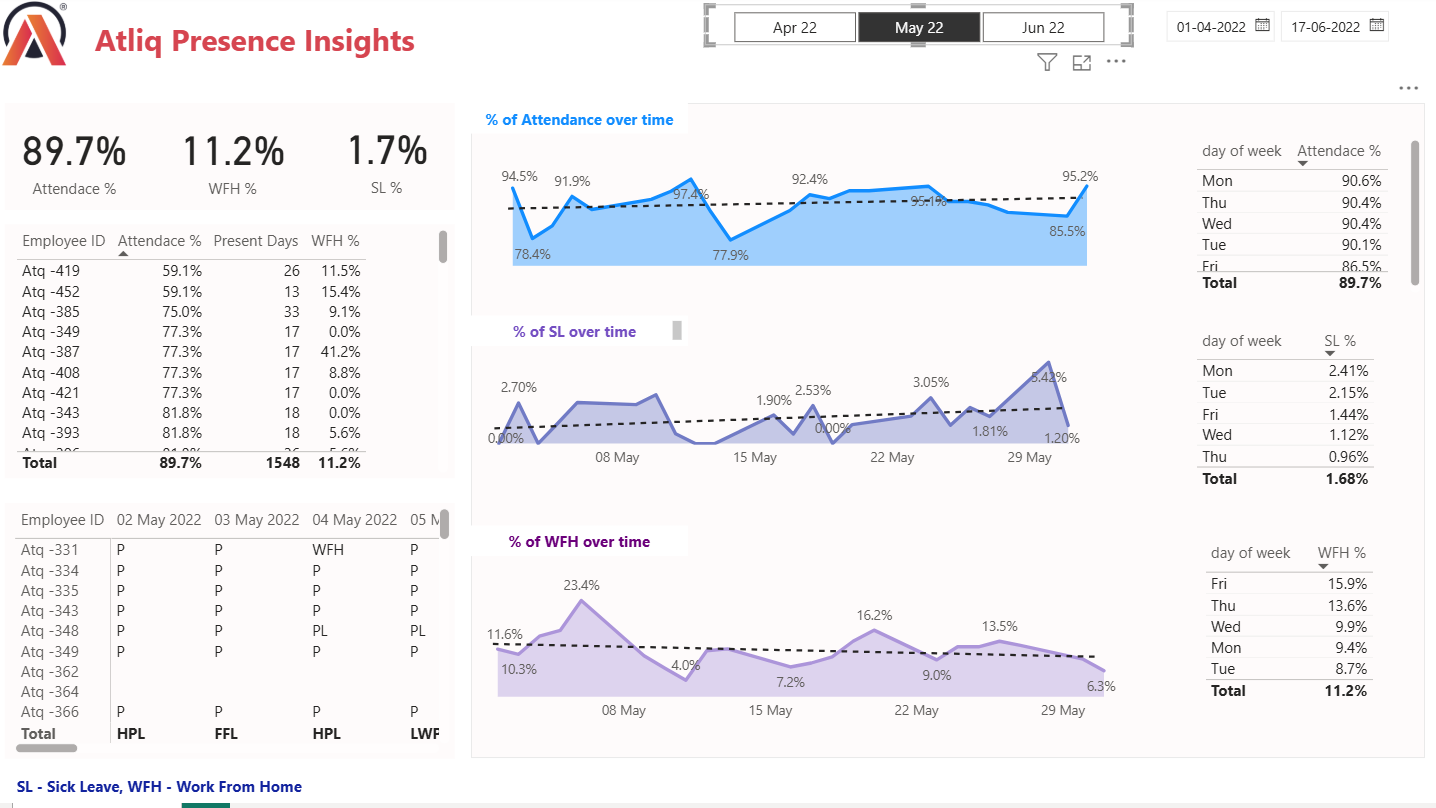

What the dashboard file says about the page in this screenshot:
{"tool":"powerbi","page":{"name":"Presence Insights","canvas":[1280,720],"ordinal":0},"visuals":[{"type":"textbox","box":[7.8,205.6,399.9,225.5],"z":0},{"type":"textbox","box":[7.8,453.3,399.8,227.6],"z":1000},{"type":"textbox","box":[422.3,97.9,848.1,582.3],"z":2000},{"type":"textbox","box":[7.8,98,399.9,95.4],"z":3000},{"type":"tableEx","fields":{"Values":["Final Data.Employee ID","Measures (2).Attendace %","Measures (2).Present Days","Measures (2).WFH %"]},"box":[12.6,205.2,394.9,225.7],"z":4000},{"type":"slicer","fields":{"Values":["Final Data.Date"]},"box":[1027.3,5.2,252.7,46.3],"z":5000},{"type":"slicer","fields":{"Values":["Final Data.MMM YY"]},"box":[630.4,10.5,379.5,35.8],"z":6000},{"type":"areaChart","fields":{"Category":["Final Data.MMM YY","Final Data.Date"],"Y":["Measures (2).WFH %"]},"box":[420.7,502.3,589,153.5],"z":7000},{"type":"areaChart","fields":{"Category":["Final Data.WeekNo","Final Data.Date"],"Y":["Measures (2).Attendace %"]},"box":[444.1,144.9,540.4,103.2],"z":8000},{"type":"card","fields":{"Values":["Measures (2).Attendace %"]},"box":[7.8,98,124,96.3],"z":9000},{"type":"card","fields":{"Values":["Measures (2).WFH %"]},"box":[141.4,98,138.8,96.3],"z":10000},{"type":"areaChart","fields":{"Category":["Final Data.MMM YY","Final Data.Date"],"Y":["Measures (2).SL %"]},"box":[422.5,307.1,556,124],"z":11000},{"type":"image","box":[0,0,70,71],"z":12000},{"type":"card","fields":{"Values":["Measures (2).SL %"]},"box":[286.3,97.2,121.4,96.3],"z":13000},{"type":"textbox","box":[70.3,0,320.1,71.1],"z":14000},{"type":"textbox","box":[422.4,98.2,192.5,27.5],"z":15000},{"type":"textbox","box":[422.5,286.3,192.6,26.9],"z":16000},{"type":"textbox","box":[422.1,473.7,192.6,27.2],"z":17000},{"type":"pivotTable","fields":{"Rows":["Final Data.Employee ID"],"Columns":["Final Data.Date"],"Values":["Min(Final Data.Value)"]},"box":[11.7,453.3,395.9,227.6],"z":18000},{"type":"textbox","box":[13.6,691.6,289.8,28.2],"z":19000},{"type":"tableEx","fields":{"Values":["Final Data.day of week","Measures (2).Attendace %"]},"box":[1060.9,125.8,209.9,145.7],"z":20000},{"type":"tableEx","fields":{"Values":["Final Data.day of week","Measures (2).SL %"]},"box":[1060.9,294.1,191.7,167.4],"z":21000},{"type":"tableEx","fields":{"Values":["Final Data.day of week","Measures (2).WFH %"]},"box":[1068.7,483.2,170,167.4],"z":22000}]}

Visuals, with their boxes in screenshot pixels (x1, y1, x2, y2), scaled from the page's 1280x720 canvas onto the 1436x808 screenshot:
textbox: [9, 231, 457, 484]
textbox: [9, 509, 457, 764]
textbox: [474, 110, 1425, 763]
textbox: [9, 110, 457, 217]
tableEx - Final Data.Employee ID x Measures (2).Attendace %: [14, 230, 457, 484]
slicer - Final Data.Date: [1153, 6, 1435, 58]
slicer - Final Data.MMM YY: [707, 12, 1133, 52]
areaChart - Final Data.MMM YY x Final Data.Date: [472, 564, 1133, 736]
areaChart - Final Data.WeekNo x Final Data.Date: [498, 163, 1104, 278]
card - Measures (2).Attendace %: [9, 110, 148, 218]
card - Measures (2).WFH %: [159, 110, 314, 218]
areaChart - Final Data.MMM YY x Final Data.Date: [474, 345, 1098, 484]
image: [0, 0, 79, 80]
card - Measures (2).SL %: [321, 109, 457, 217]
textbox: [79, 0, 438, 80]
textbox: [474, 110, 690, 141]
textbox: [474, 321, 690, 351]
textbox: [474, 532, 690, 562]
pivotTable - Final Data.Employee ID x Final Data.Date: [13, 509, 457, 764]
textbox: [15, 776, 340, 807]
tableEx - Final Data.day of week x Measures (2).Attendace %: [1190, 141, 1426, 305]
tableEx - Final Data.day of week x Measures (2).SL %: [1190, 330, 1405, 518]
tableEx - Final Data.day of week x Measures (2).WFH %: [1199, 542, 1390, 730]
